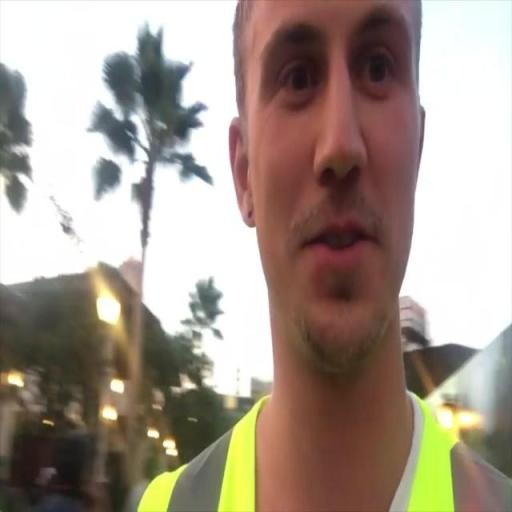vest: (136, 385, 512, 512)
